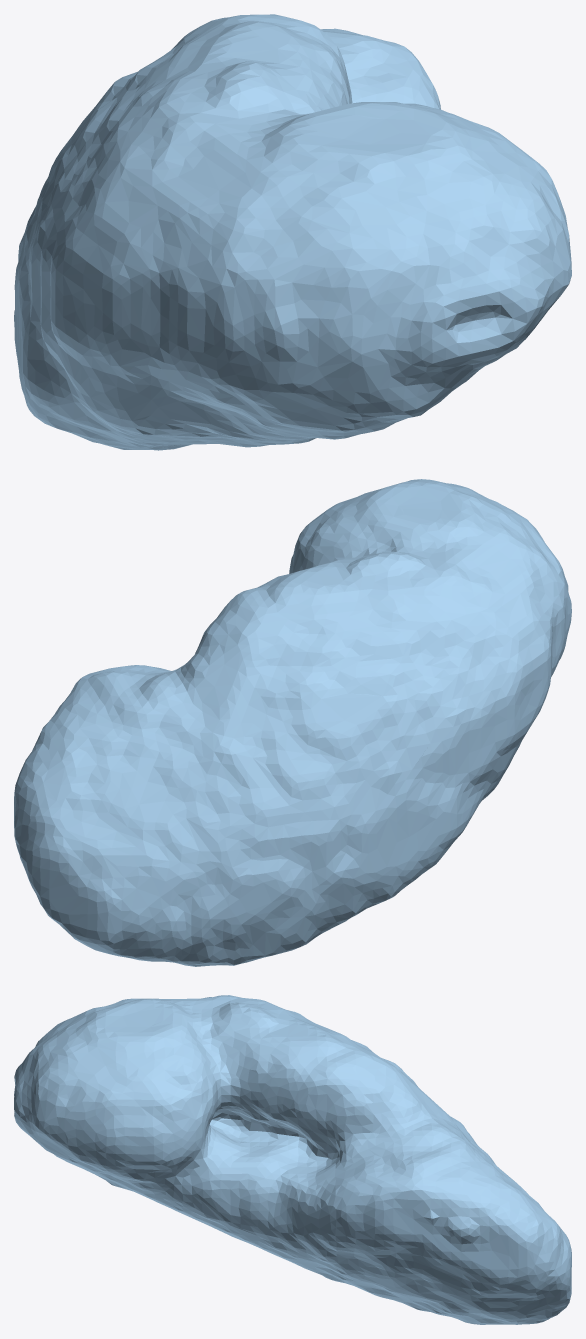
3 views of the same model, one above another, from view 1: azimuth 30°, elevation 25°; view 2: azimuth 150°, elevation 25°; view 3: azimuth 270°, elevation 25° (orthographic). The views are drawn at different scales.
Parts seen in each view (by area): view 1: world; view 2: world; view 3: world.
Part boxes in pixels (x1,y1,x2,y2): world: (14, 14, 571, 450); world: (14, 479, 571, 966); world: (14, 995, 571, 1324).
Size of the model in its own units: 0.5773 by 0.5032 by 0.9092.
